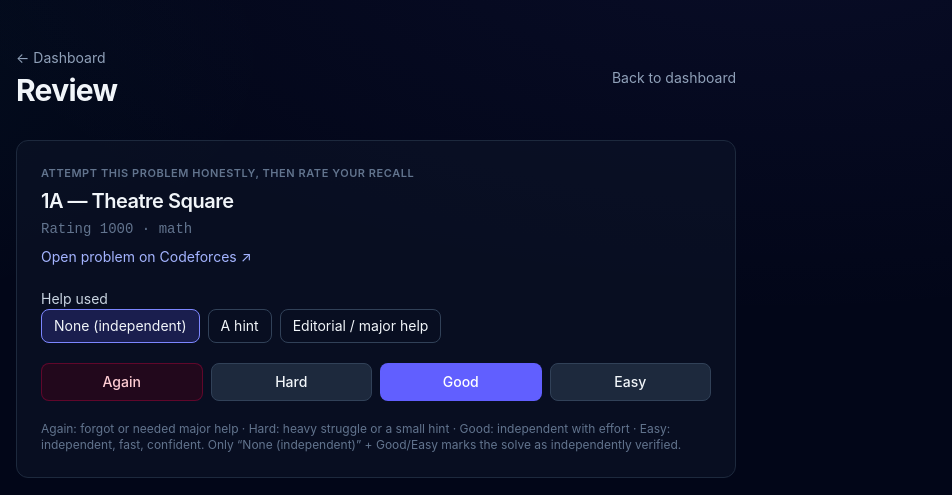
409 conflict shows already-completed state
Click the button "Easy" at (630, 382), box [550,363,711,401]
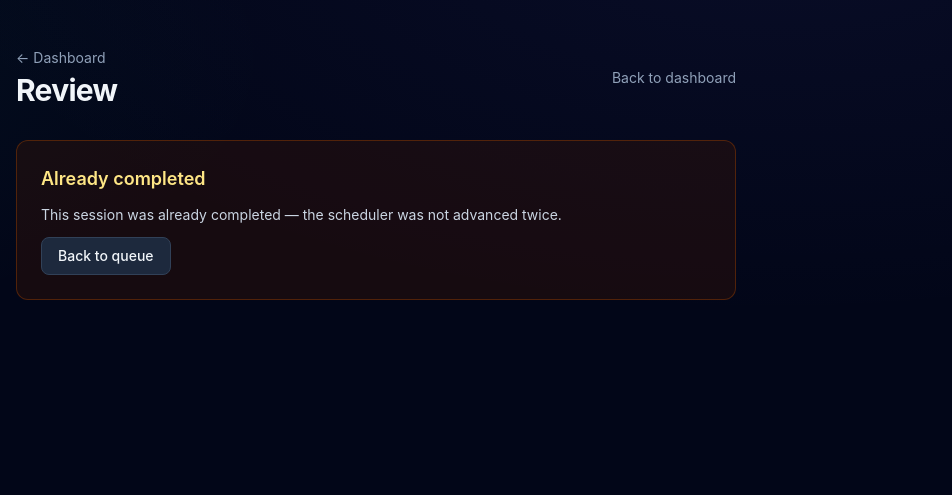
expect the heading "Already completed" is shown: met, box [41,168,206,189]
